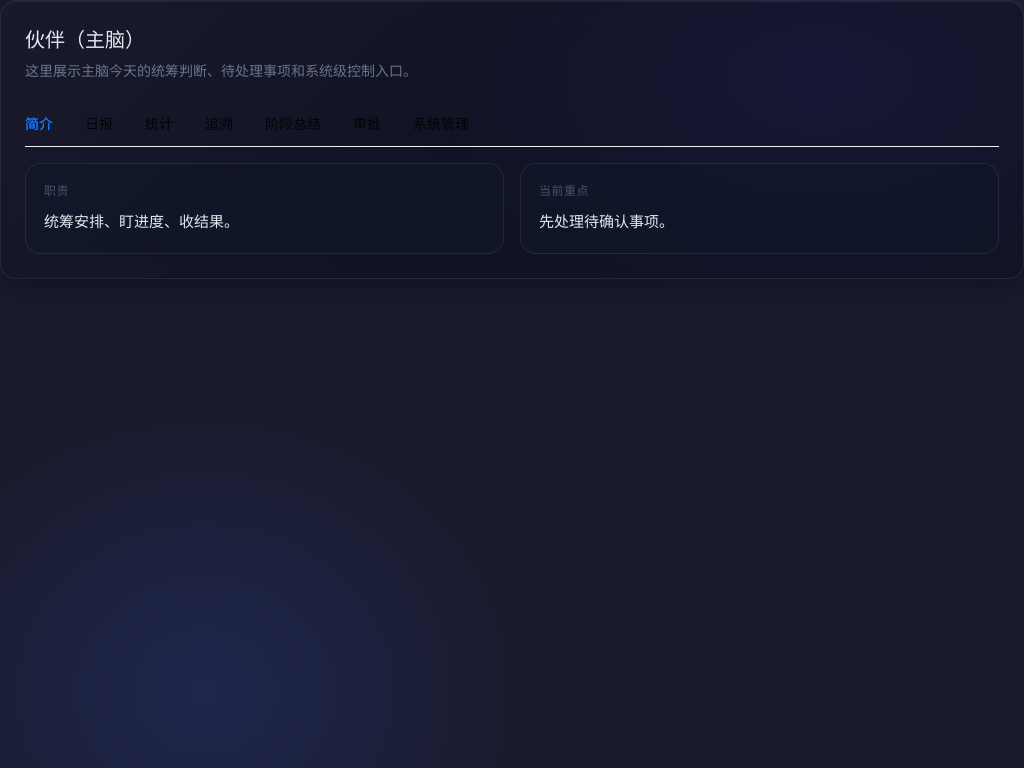
Test case: MainBrainCockpitPanel › shows system management content only inside the dedicated tab
This screenshot has width=1024, height=768.
Expected: the text "自动化管理区" is not shown
Click the tab "系统管理". click: (441, 124)
box: [413,113,469,135]
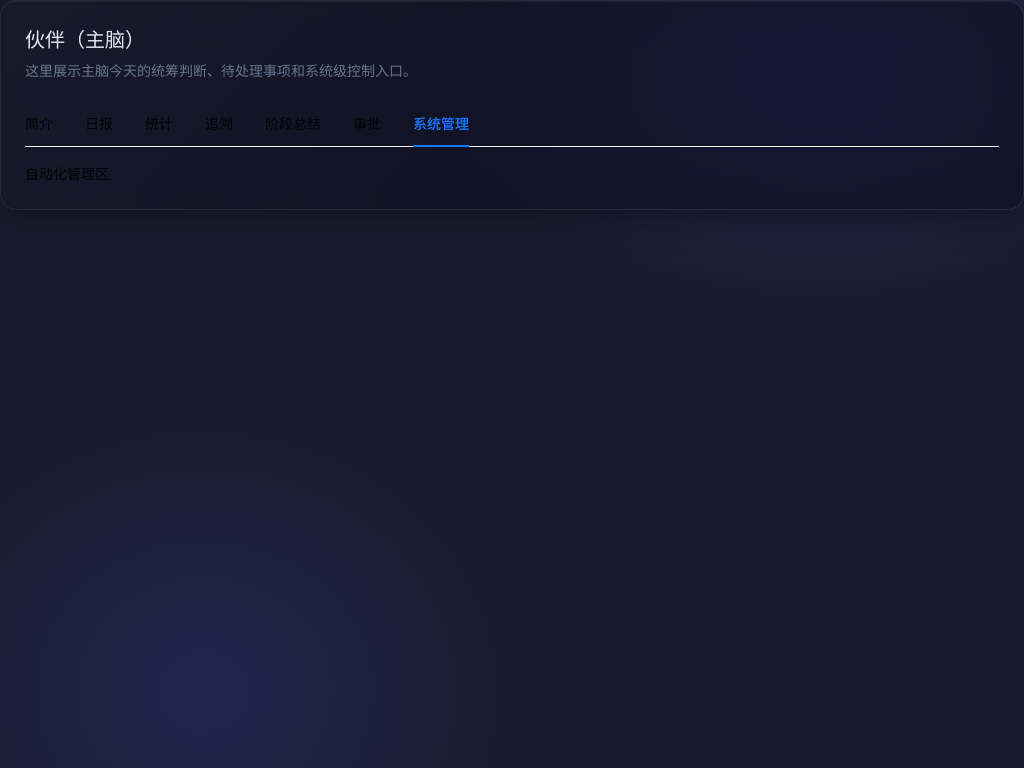
Expected: the text "自动化管理区" is shown, [25,165,109,182]
